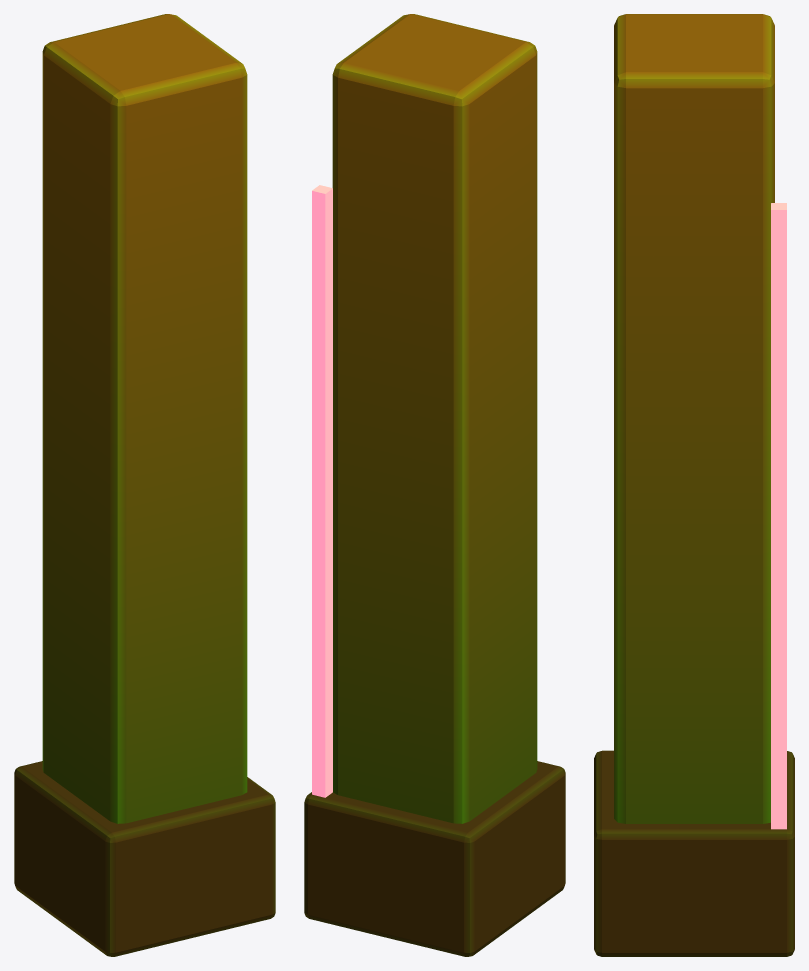
Rendered from wall_corner.glb.
The picture shows the model from 3 angles, left to right: view 1: azimuth 30°, elevation 25°; view 2: azimuth 150°, elevation 25°; view 3: azimuth 270°, elevation 25°; orthographic projection. The views are drawn at different scales.
Visible parts, largest first — view 1: wall_corner; view 2: wall_corner; view 3: wall_corner.
Part boxes in pixels (bbox=[...]): wall_corner: bbox=[14, 14, 275, 956]; wall_corner: bbox=[304, 14, 565, 956]; wall_corner: bbox=[594, 14, 794, 956].
Size of the model in its own units: 1 by 4.8 by 1.
